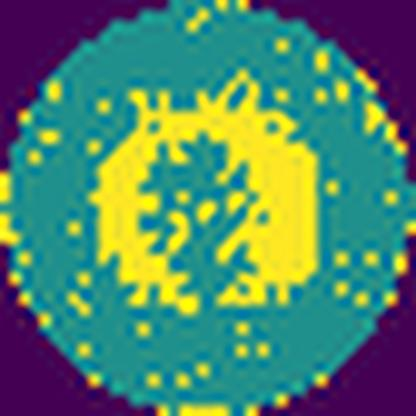Donut: (84, 66, 328, 322)
